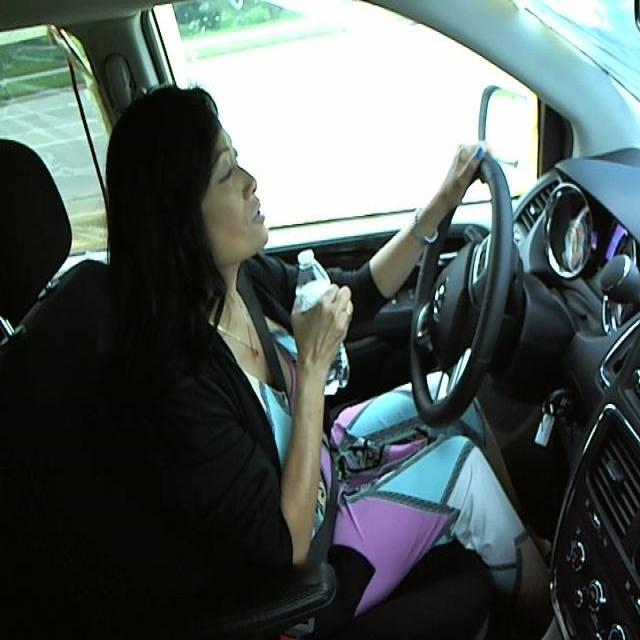drinking: (287, 244, 353, 391)
